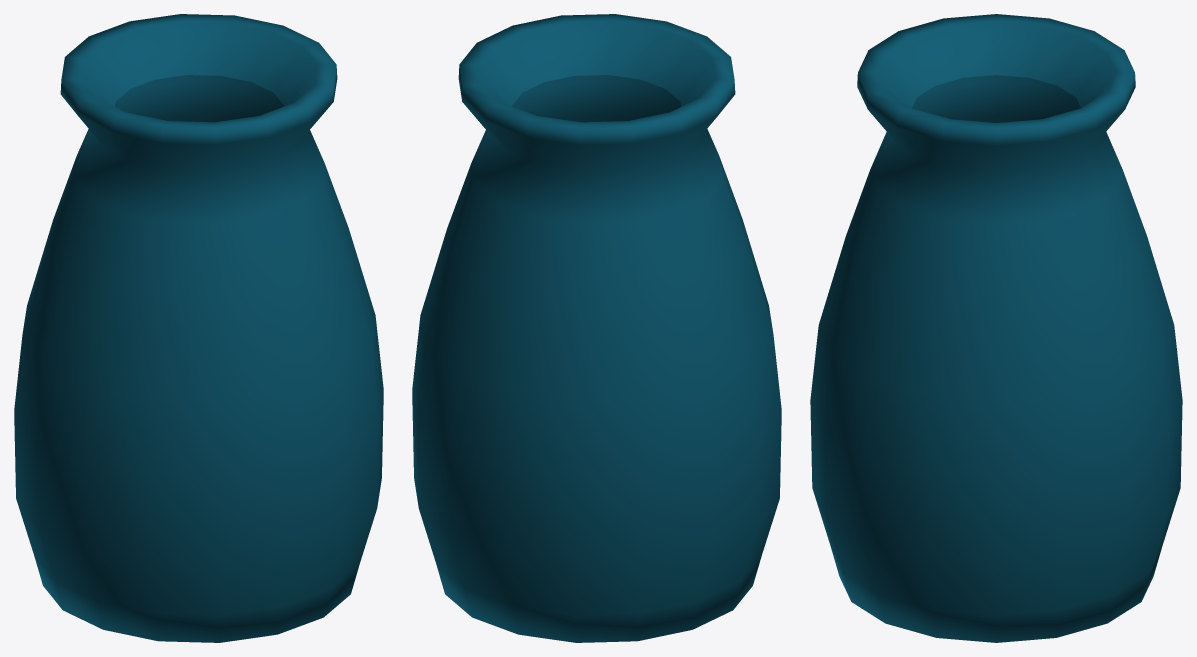
The model's file is Jarron.fbx.
The picture shows the model from 3 angles, left to right: view 1: azimuth 30°, elevation 25°; view 2: azimuth 150°, elevation 25°; view 3: azimuth 270°, elevation 25°; orthographic projection.
Parts seen in each view (by area): view 1: Cylinder; view 2: Cylinder; view 3: Cylinder.
Part boxes in pixels (<box>): Cylinder: <box>14,14,383,642</box>; Cylinder: <box>412,14,781,642</box>; Cylinder: <box>810,14,1182,642</box>.
Bounding box in the file's own units: 0.1887 × 0.1887 × 0.282.
